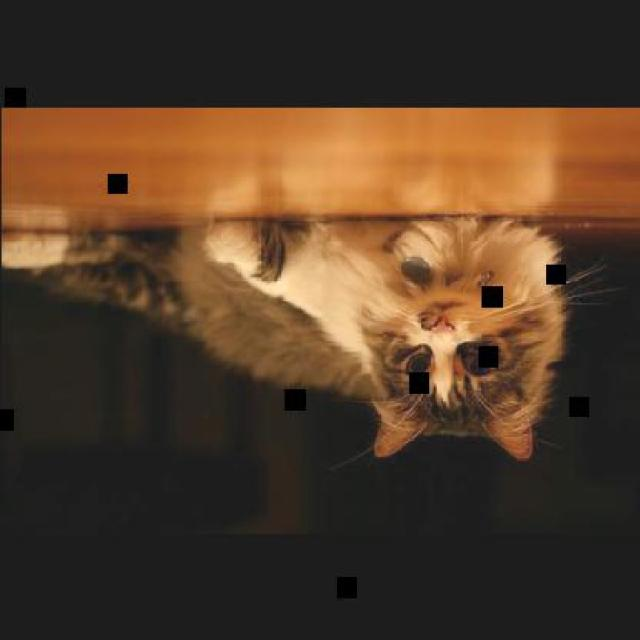unauthorized: (9, 210, 622, 462)
